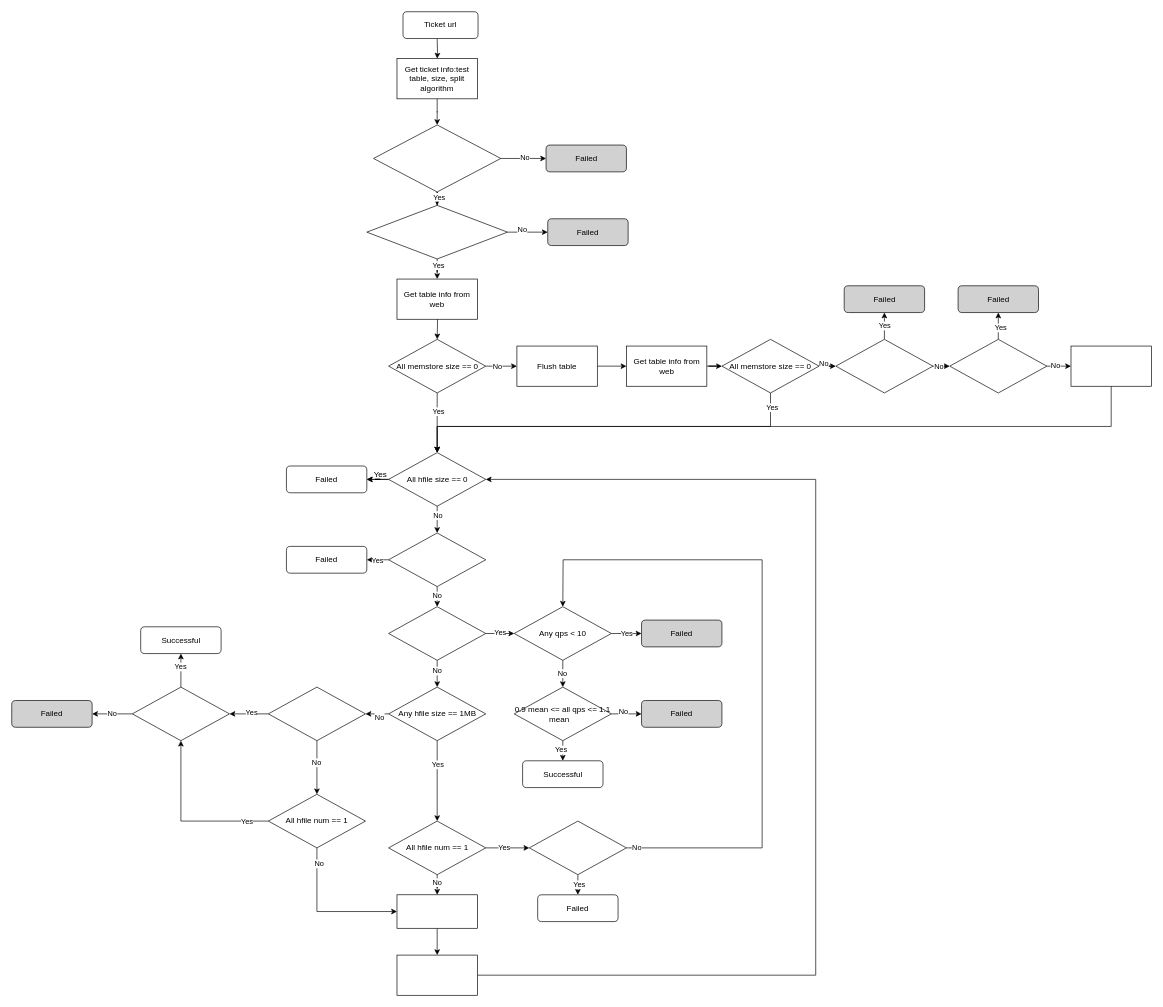
This 1163x1007 diagram has some shape labels left out. Each missing label, with the centre of its shape:
"0.9 mean <= all hfile size <= 1.1 mean" goes at point 180,713.
"All hfile size > 1GB" goes at point 316,713.
"All hfile zise == 1 MB" goes at point 437,633.
"any (mem size > 0 and qps 减少)" goes at point 998,366.
"Any hfile size > 2" goes at point 577,847.
"Any hfile zise == 0" goes at point 437,559.
"Get table info from web，假设 All memstore size == 0" goes at point 436,974.
"Major compact（确保 所有 hfile num == 1,timeout = 60s)" goes at point 436,911.
"假设 All memstore size == 0" goes at point 1110,365.
"是否发生 split" goes at point 884,366.
"检查 test 表 region 切分是否符合 split algorithm" goes at point 437,158.
"检查 test 表开头 n 个 rowkey 和结尾 n 个 rowke 是否符合预期" goes at point 437,232.
